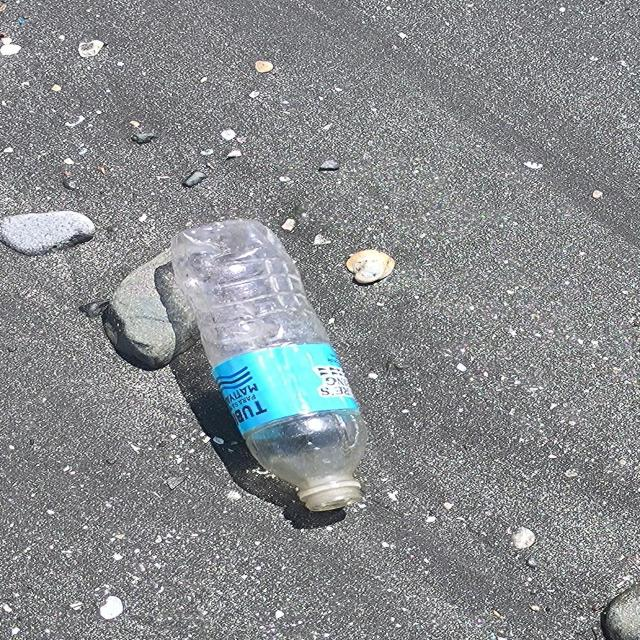plastic_waste: (174, 217, 366, 511)
